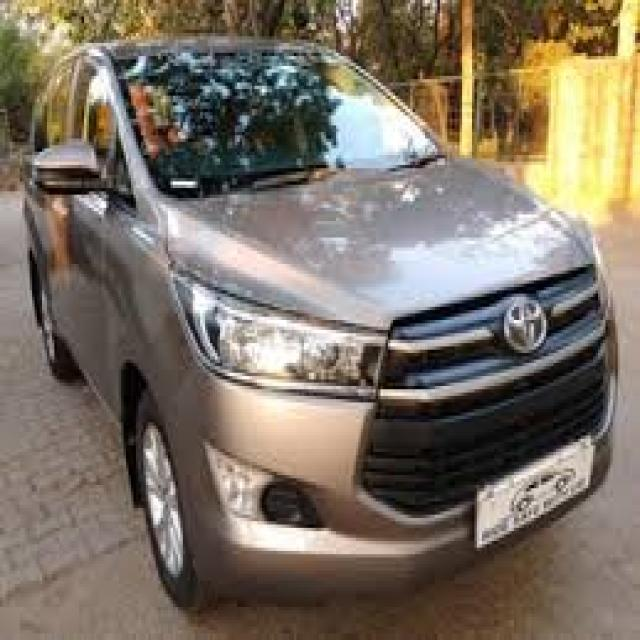light_vehicle: (20, 36, 620, 615)
